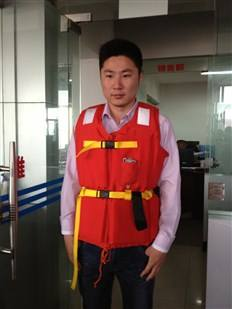reflective_clothes: (68, 87, 169, 253)
